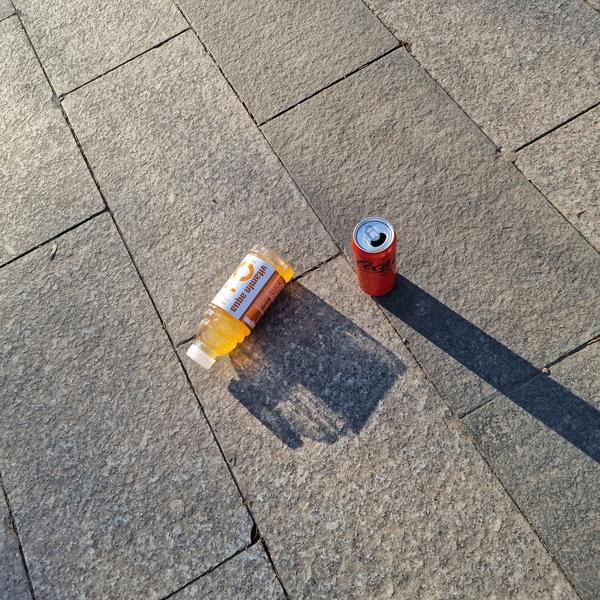can: (352, 217, 396, 296)
plastic_bottle: (176, 237, 296, 379)
